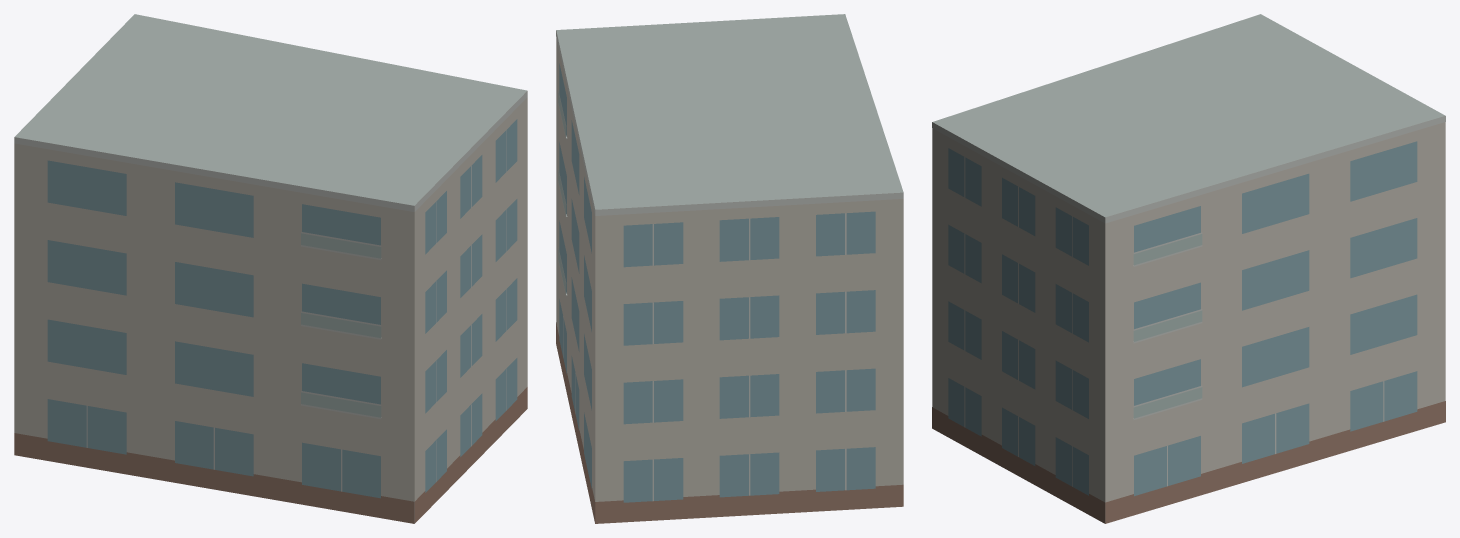
File: survey-upis-32536014.glb
The picture shows the model from 3 angles, left to right: view 1: azimuth 30°, elevation 25°; view 2: azimuth 150°, elevation 25°; view 3: azimuth 270°, elevation 25°; orthographic projection. The views are drawn at different scales.
Visible parts, largest first — view 1: survey-upis-32536014.tmp; view 2: survey-upis-32536014.tmp; view 3: survey-upis-32536014.tmp.
Part boxes in pixels (x1,y1,x2,y2): survey-upis-32536014.tmp: (14,14,527,523); survey-upis-32536014.tmp: (556,14,903,523); survey-upis-32536014.tmp: (932,14,1445,523).
Size of the model in its own units: 17.37 by 12.2 by 18.54.
